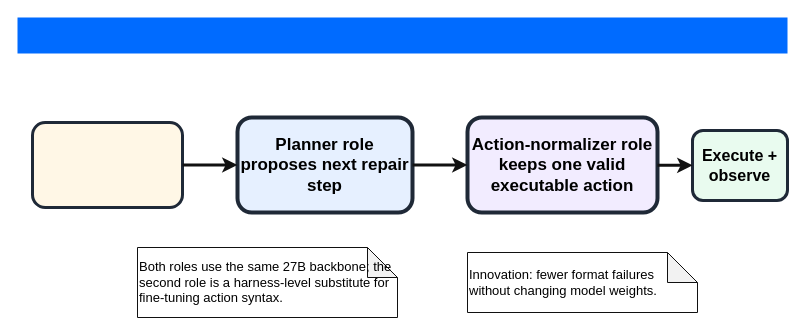
Some shapes in this 806 by 335 pixel diagram are drawn without their labels. Each missing label, with the centre of its shape:
"Current phase + repository observations + shared artifacts" goes at (107,164).
"Key idea: split reasoning from interface enforcement" goes at (402,35).
